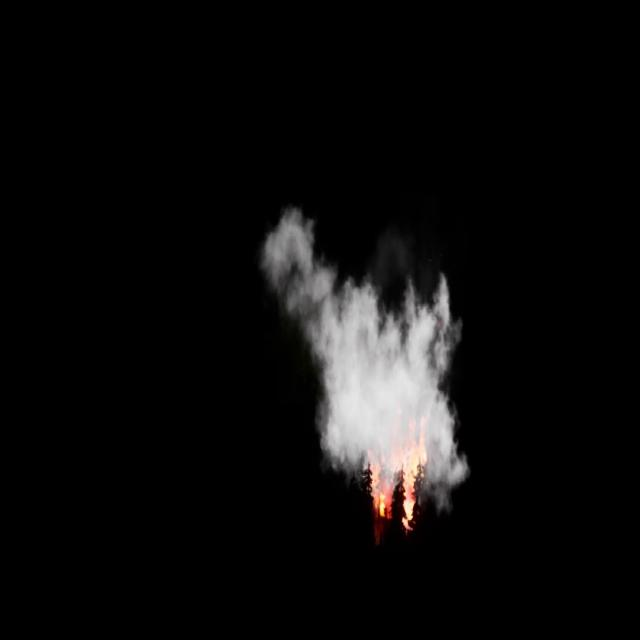fire: (359, 409, 428, 527)
smoke: (260, 203, 472, 517)
